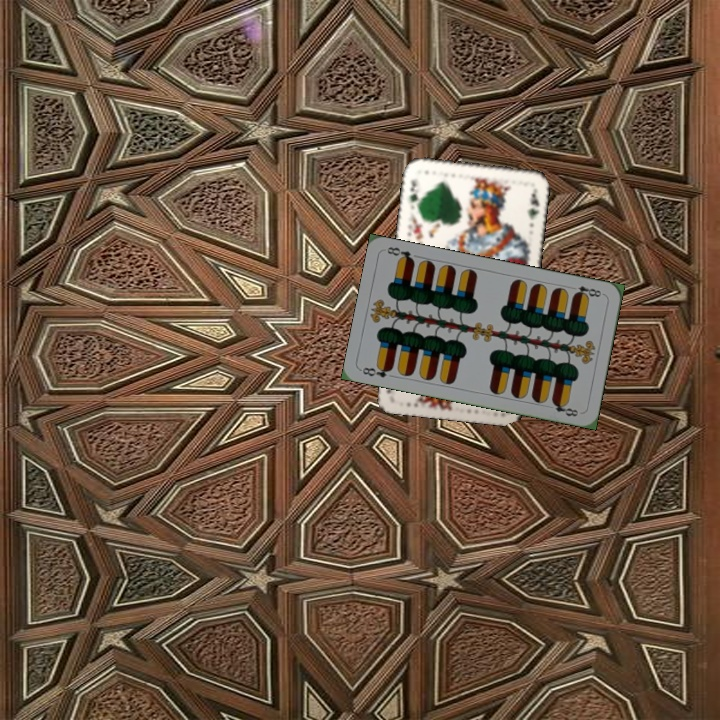E8: (566, 282, 606, 301), (358, 361, 395, 380)
GK: (405, 176, 422, 211)
